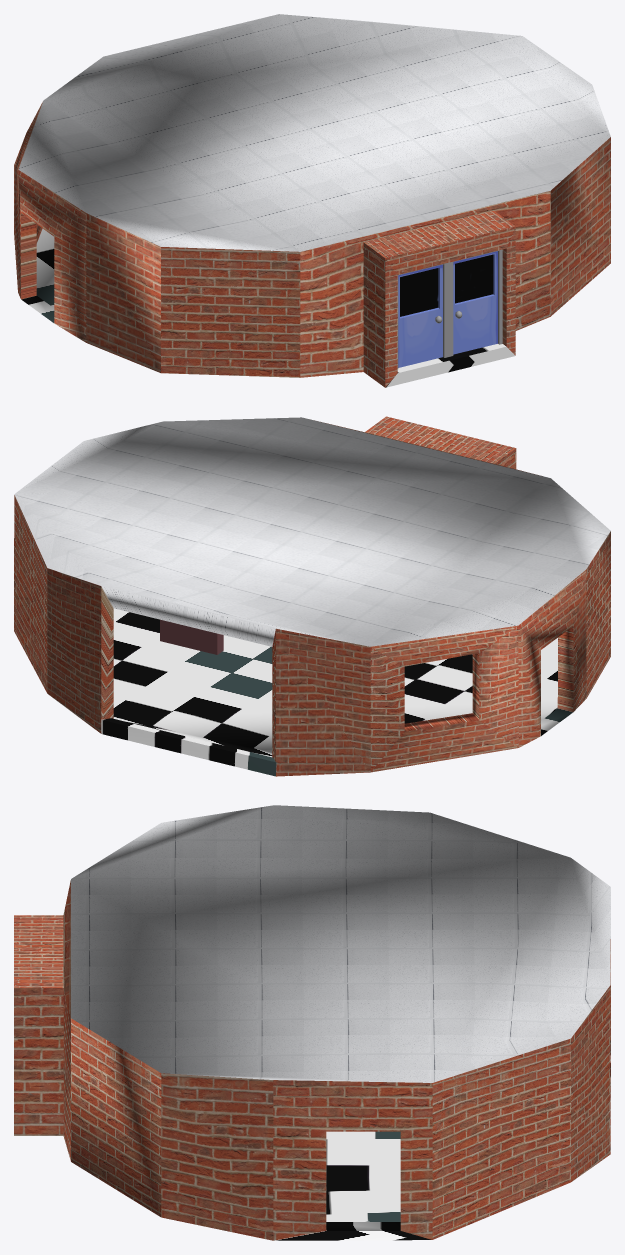
The model's file is Newatrium.glb.
The picture shows the model from 3 angles, top to bottom: view 1: azimuth 30°, elevation 25°; view 2: azimuth 150°, elevation 25°; view 3: azimuth 270°, elevation 25°; orthographic projection. The views are drawn at different scales.
Visible parts, largest first — view 1: Cube.004-col, Cube.008; view 2: Cube.004-col, Cube.006-col; view 3: Cube.004-col.
Part boxes in pixels (bbox=[...]): Cube.004-col: bbox=[14, 14, 610, 387]; Cube.008: bbox=[397, 249, 502, 368]; Cube.004-col: bbox=[14, 416, 610, 776]; Cube.006-col: bbox=[160, 619, 223, 654]; Cube.004-col: bbox=[14, 805, 610, 1240].
Bounding box in the file's own units: 18.43 × 5.04 × 16.08.
Materials: 11 (6 with a texture image).
